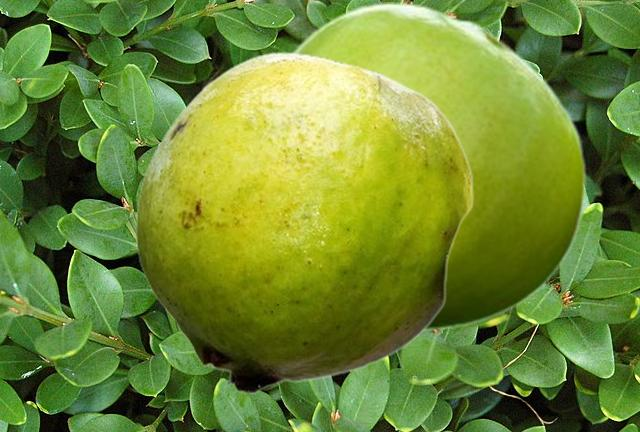guava: (135, 51, 473, 394), (289, 2, 586, 335)
